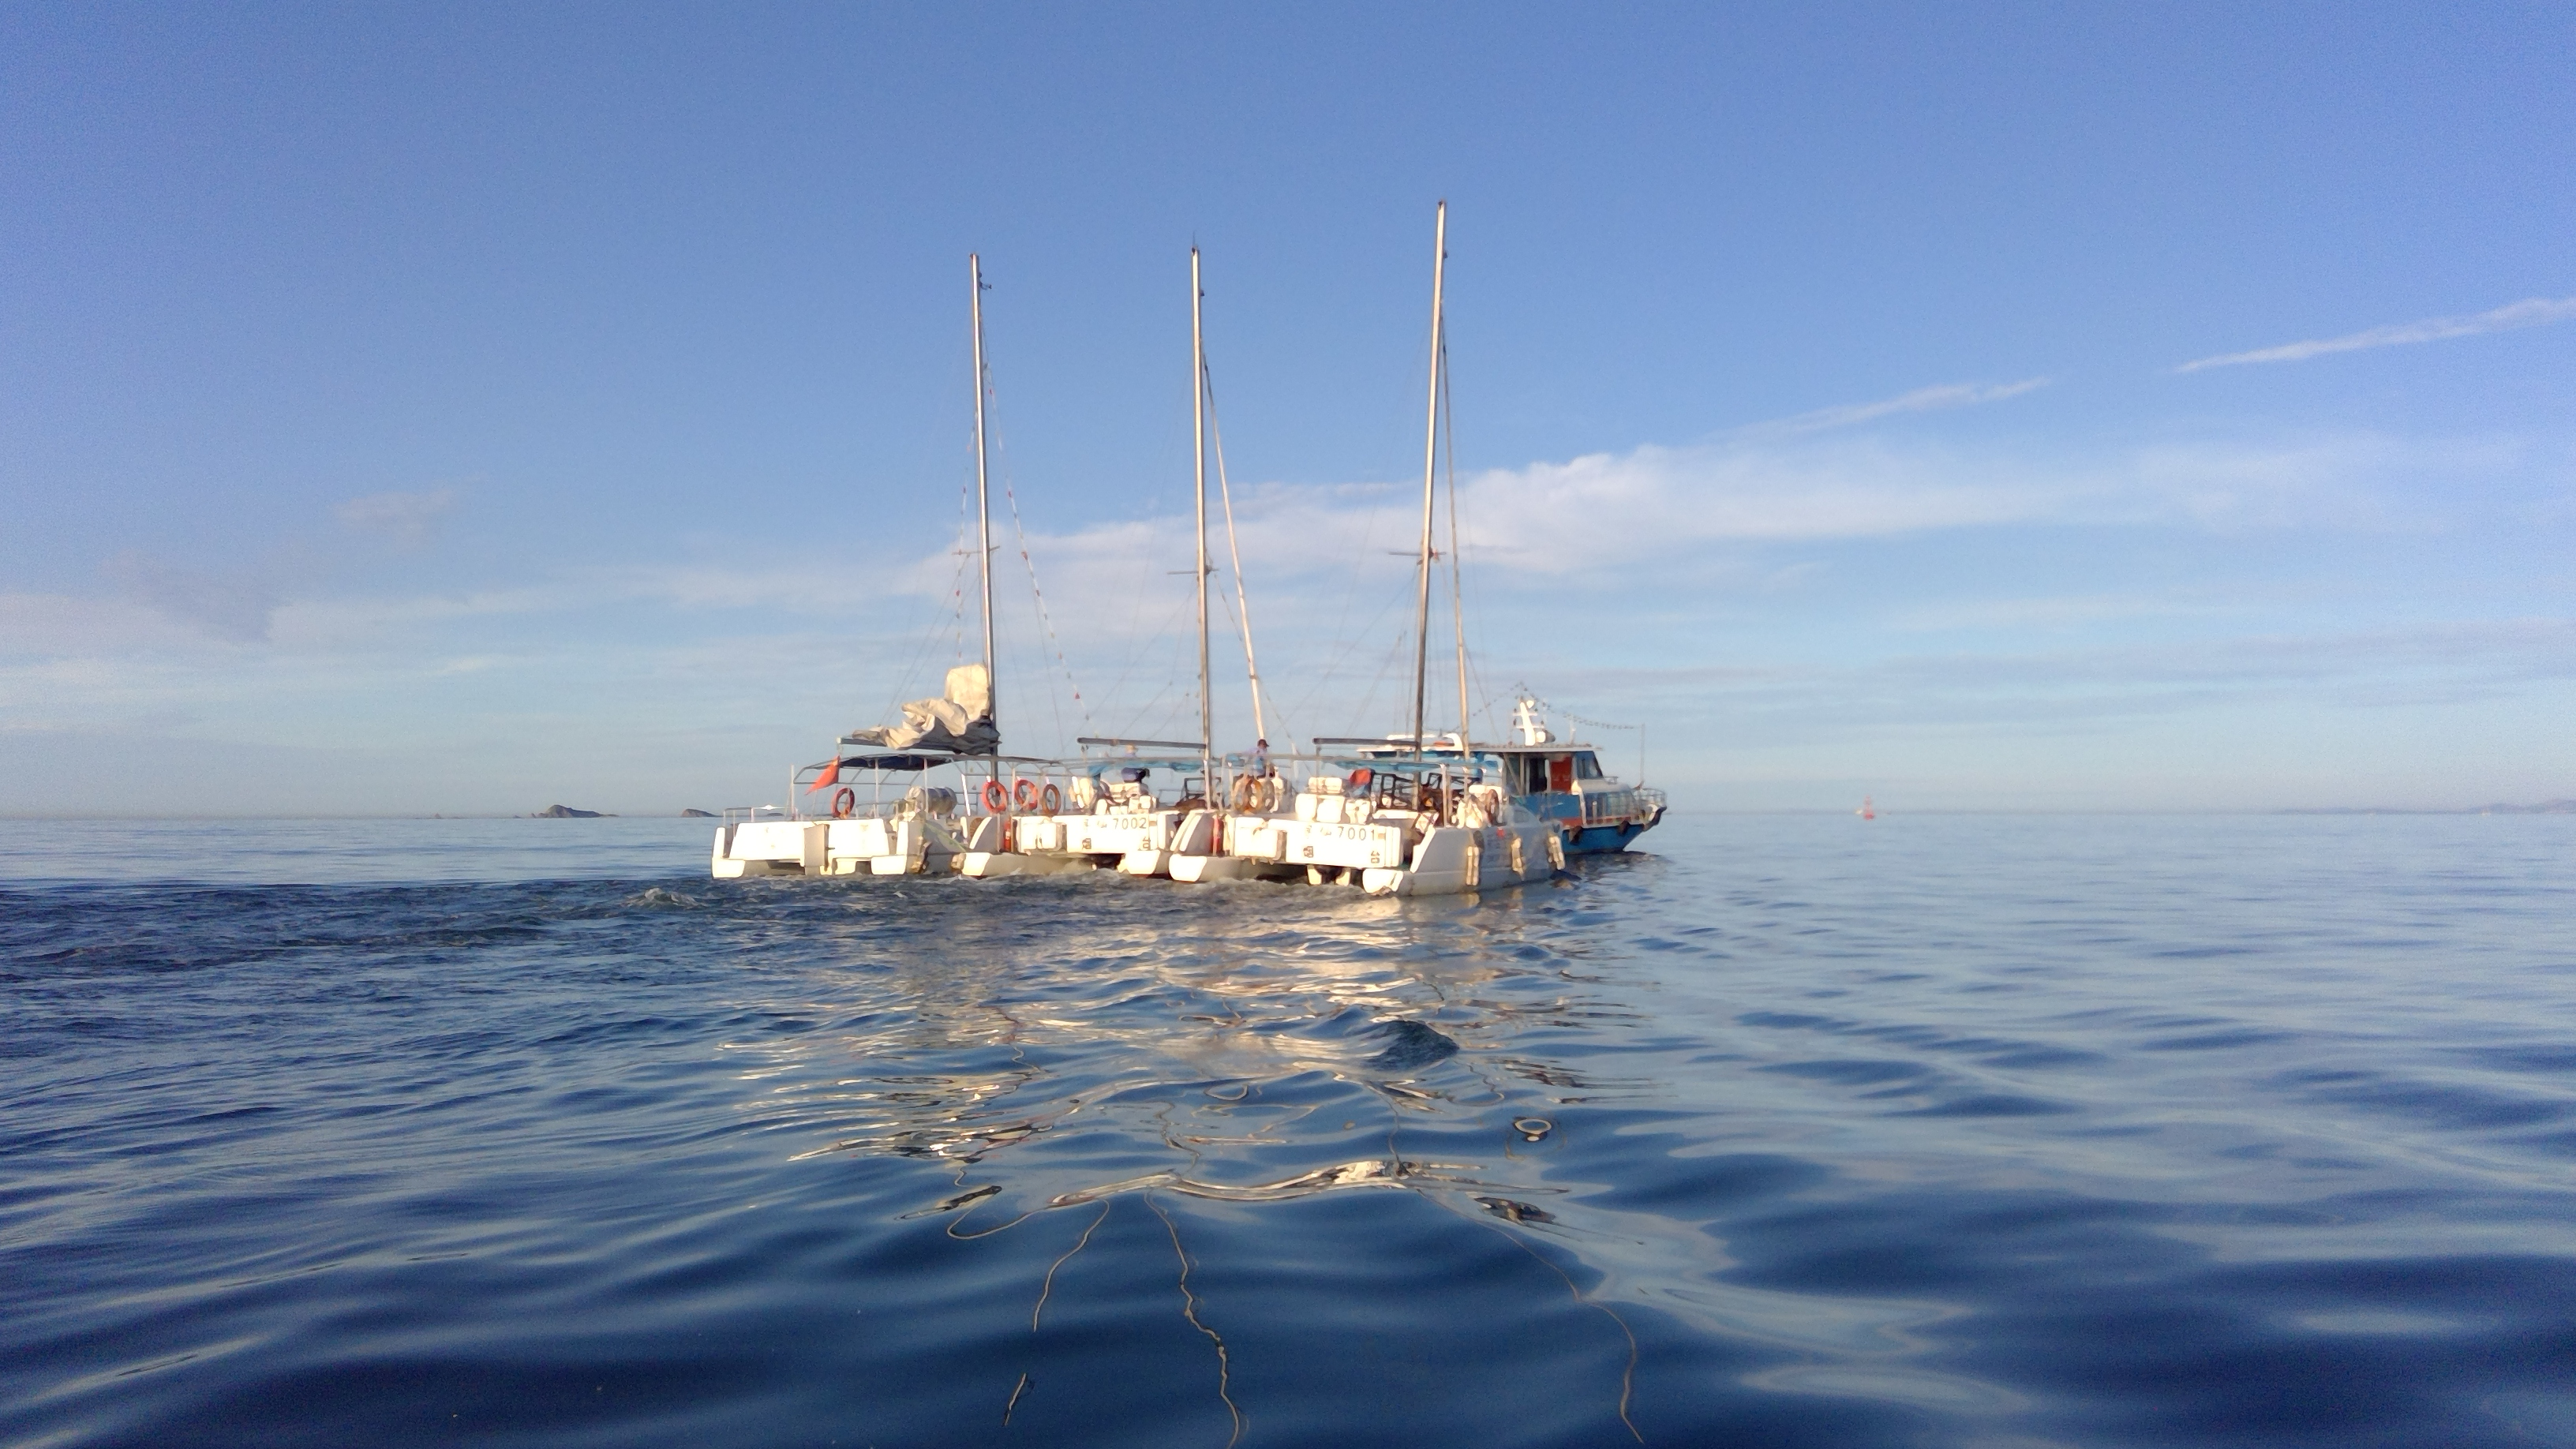boat: (697, 202, 1090, 925), (1325, 219, 1665, 906), (1093, 214, 1292, 929)
